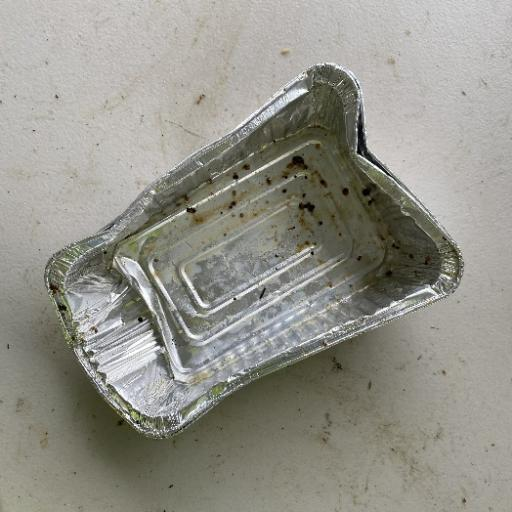Metal: (42, 60, 465, 440)
